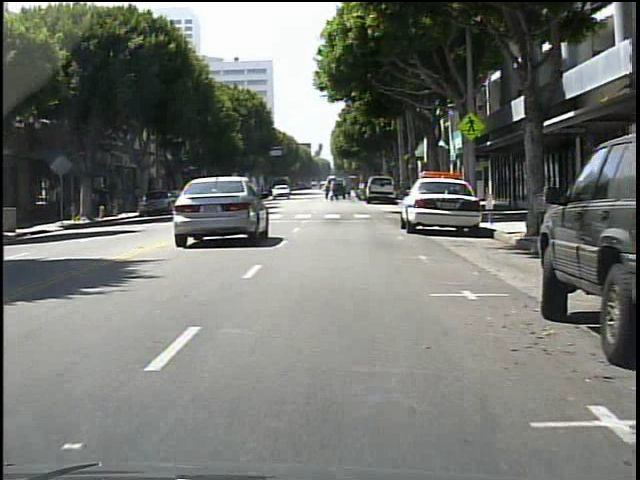person: (97, 186, 110, 219), (48, 182, 59, 219), (91, 186, 101, 217), (333, 177, 334, 199)
